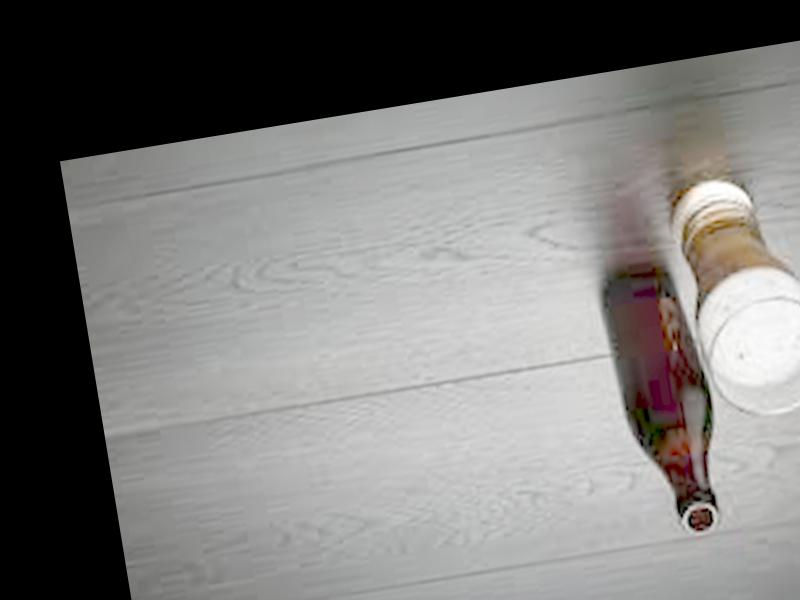Beer: (591, 247, 735, 548)
